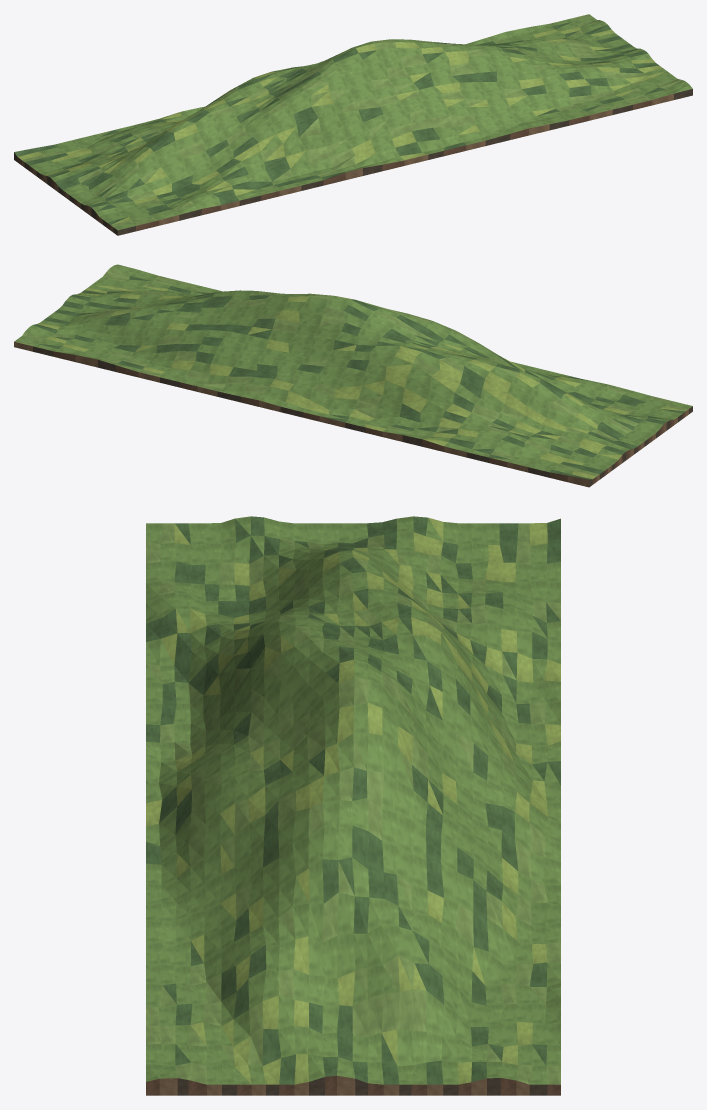
The model's file is hill_long.fbx.
3 views of the same model, one above another, from view 1: azimuth 30°, elevation 25°; view 2: azimuth 150°, elevation 25°; view 3: azimuth 270°, elevation 25° (orthographic). The views are drawn at different scales.
Parts seen in each view (by area): view 1: hill_long; view 2: hill_long; view 3: hill_long.
Boxes of the visible parts, bbox=[...] form: hill_long: bbox=[14, 14, 692, 235]; hill_long: bbox=[14, 264, 692, 487]; hill_long: bbox=[146, 516, 560, 1095].
Size of the model in its own units: 8000 by 1050 by 2500.
1 material, 1 textured.
